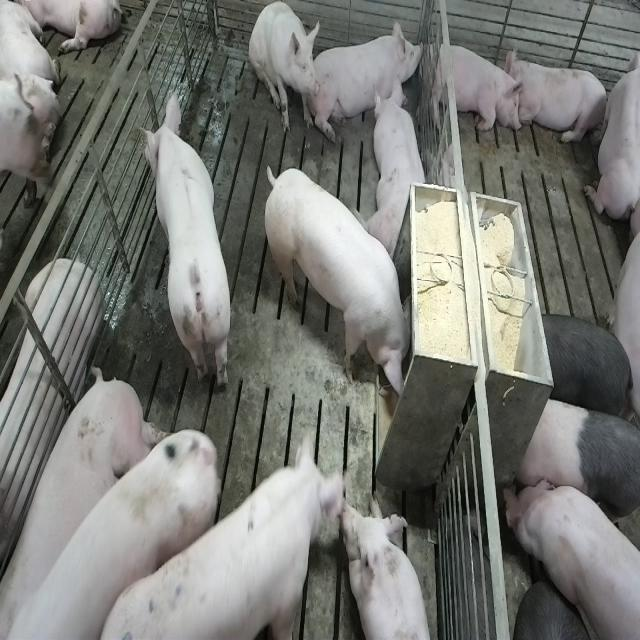Feeding: (269, 165, 421, 406)
Lateral_lying: (0, 256, 102, 579)
Sitting: (249, 2, 320, 137)
Standing: (5, 386, 232, 640), (104, 430, 359, 640), (139, 94, 234, 396), (502, 474, 638, 640), (512, 396, 638, 558), (535, 307, 637, 425)
Sternal_lying: (315, 12, 424, 137), (344, 492, 436, 640), (369, 78, 430, 257), (583, 37, 637, 226), (424, 36, 524, 138), (510, 52, 610, 149)
